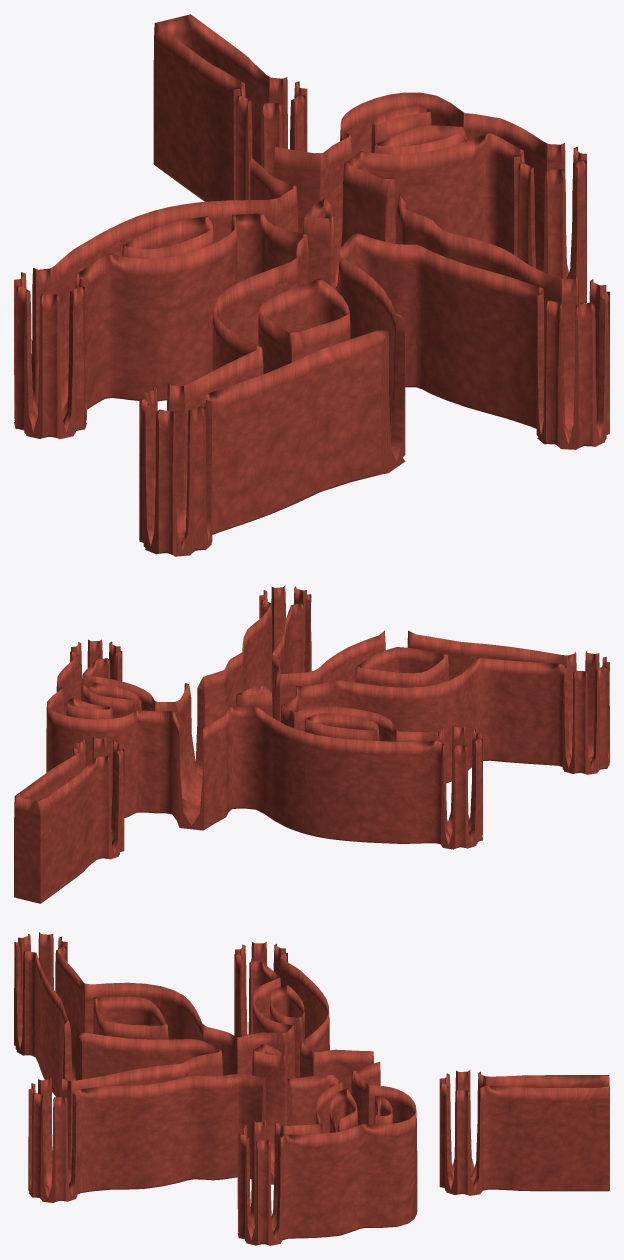
File: level1_new_minimap.fbx
The picture shows the model from 3 angles, top to bottom: view 1: azimuth 30°, elevation 25°; view 2: azimuth 150°, elevation 25°; view 3: azimuth 270°, elevation 25°; orthographic projection. The views are drawn at different scales.
Visible parts, largest first — view 1: polySurface6; view 2: polySurface6; view 3: polySurface6.
Boxes of the visible parts, <box> form: polySurface6: <box>14,14,609,556</box>; polySurface6: <box>14,585,609,903</box>; polySurface6: <box>14,932,609,1245</box>.
Bounding box in the file's own units: 124 × 28.65 × 149.
